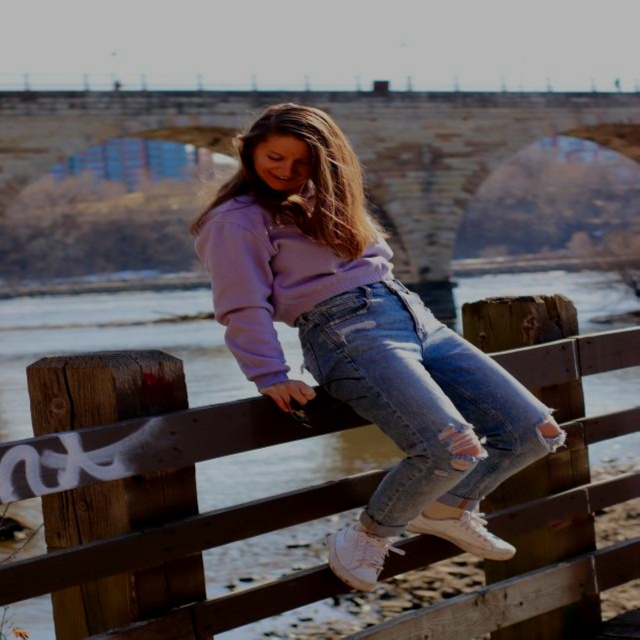ripped_pants: (306, 286, 567, 535)
